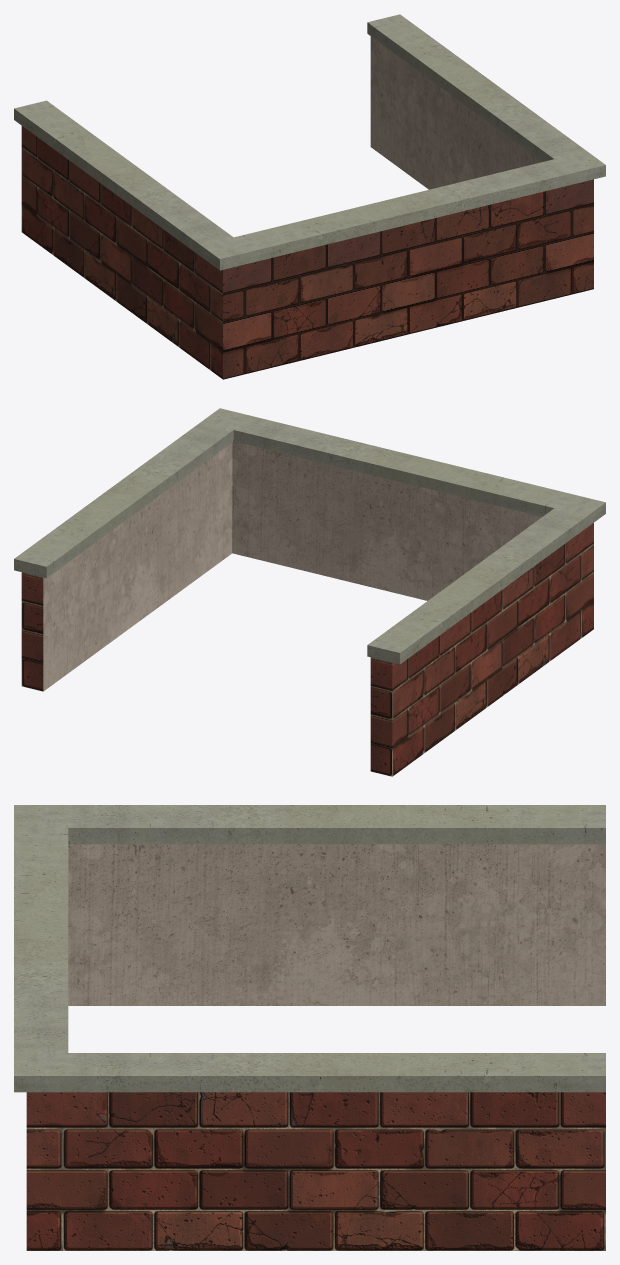
The model's file is roof03_U.fbx.
The picture shows the model from 3 angles, top to bottom: view 1: azimuth 30°, elevation 25°; view 2: azimuth 150°, elevation 25°; view 3: azimuth 270°, elevation 25°; orthographic projection. The views are drawn at different scales.
Parts seen in each view (by area): view 1: roof03_U; view 2: roof03_U; view 3: roof03_U.
Part boxes in pixels (x1,y1,x2,y2): roof03_U: [14, 14, 605, 379]; roof03_U: [14, 408, 605, 776]; roof03_U: [14, 805, 605, 1250].
Bounding box in the file's own units: 354 × 110 × 327.
